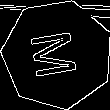M_E: (28, 27, 86, 81)
